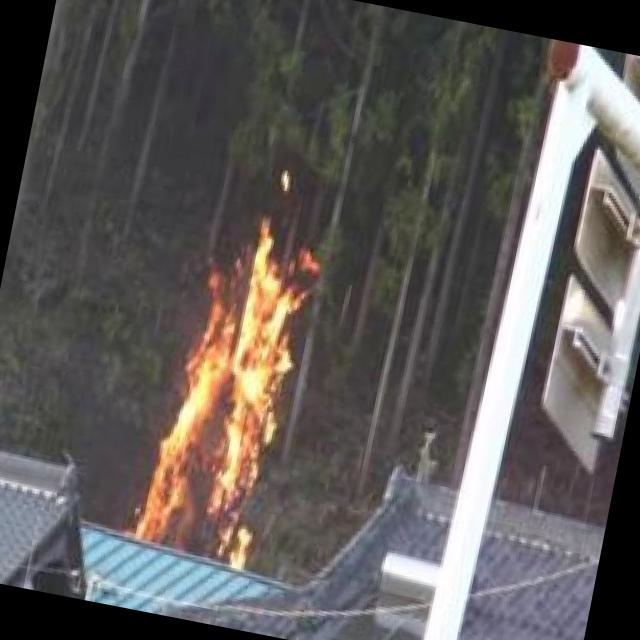Smoke: (134, 200, 334, 572)
